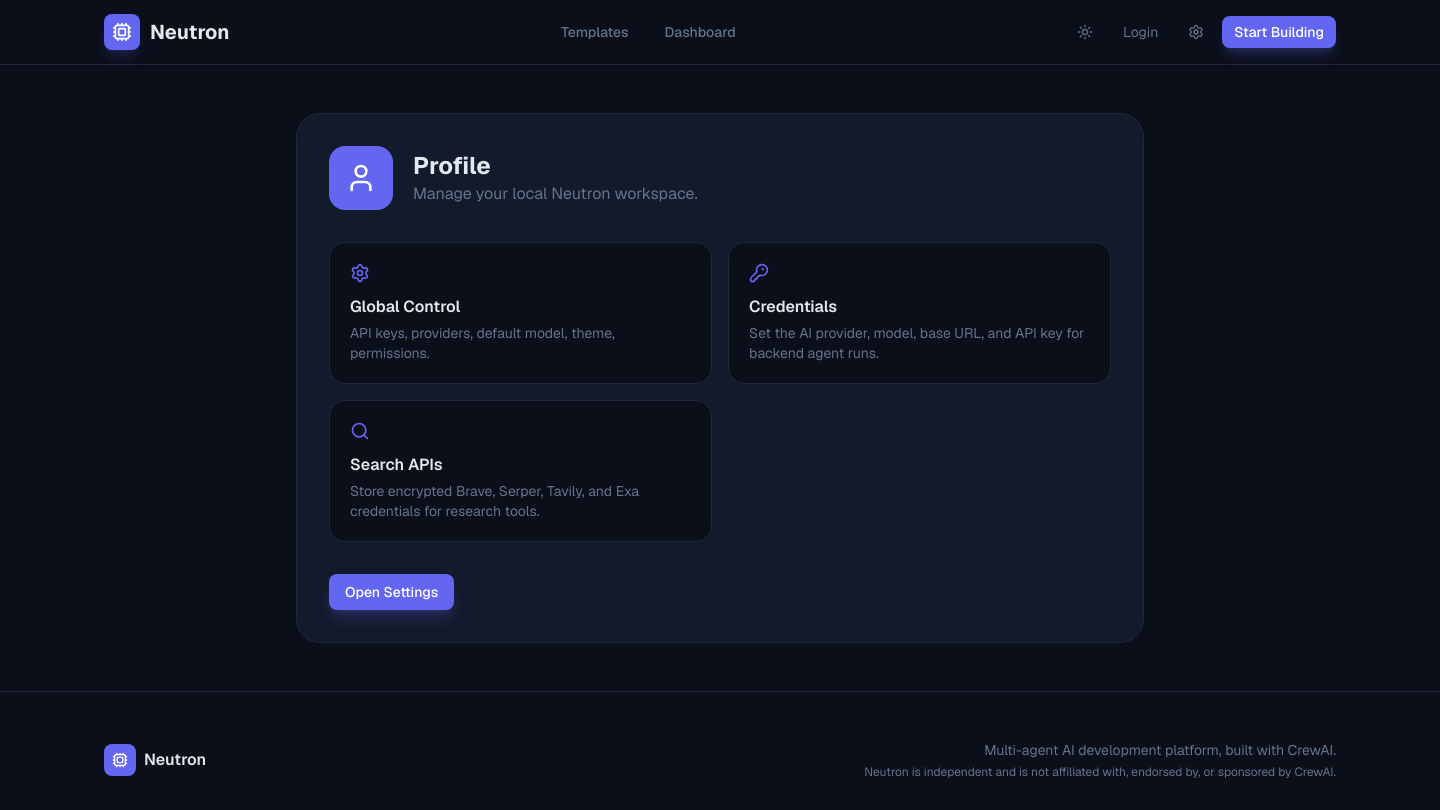
Test: ProfilePage › opens search API settings from the profile card
What coordinates should you click on to do the following:
click the heading "Search APIs"
I would click on:
 (396, 464)
Its box is x1=350 y1=454 x2=442 y2=475.
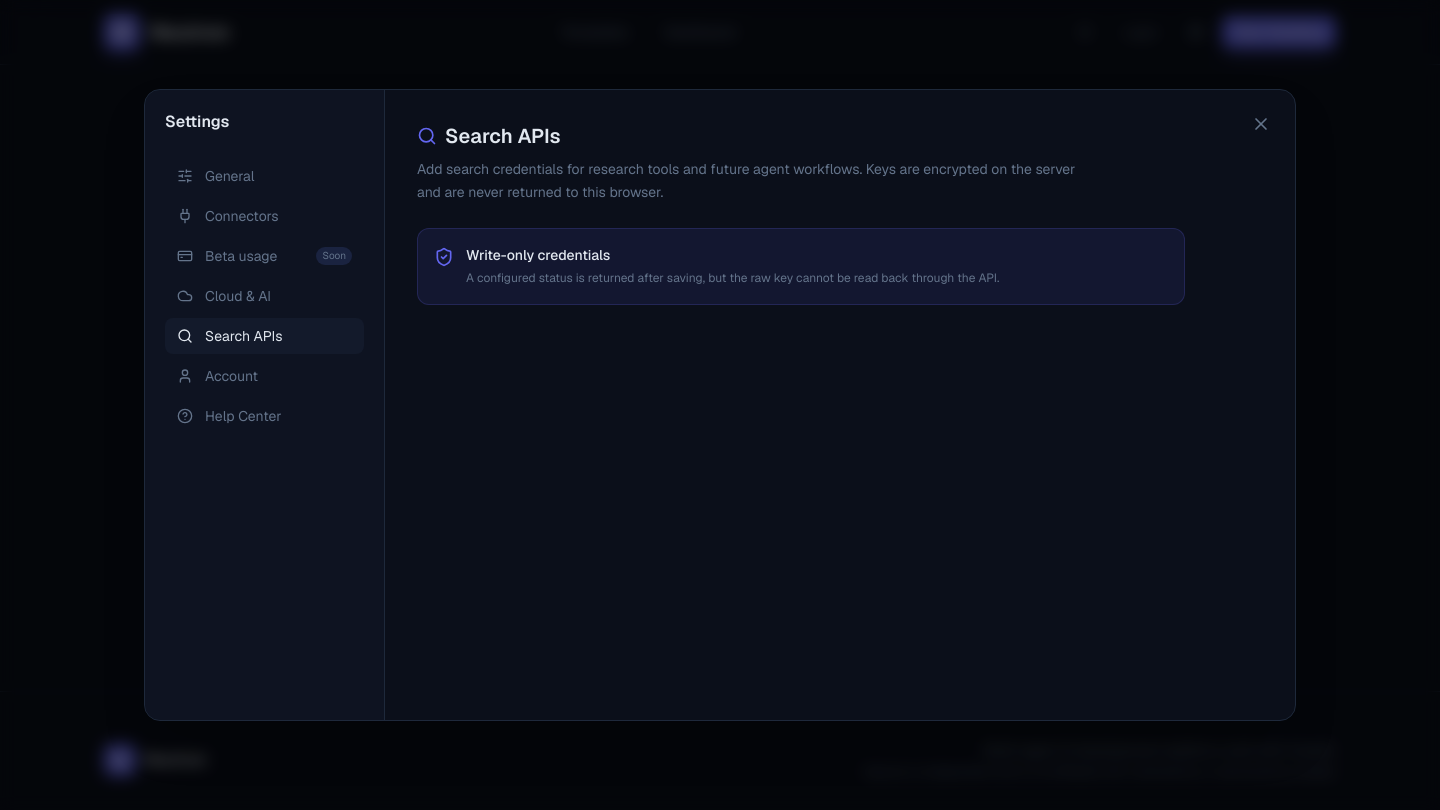
Expected: the text "Write-only credentials" is shown, x1=466 y1=246 x2=610 y2=264
